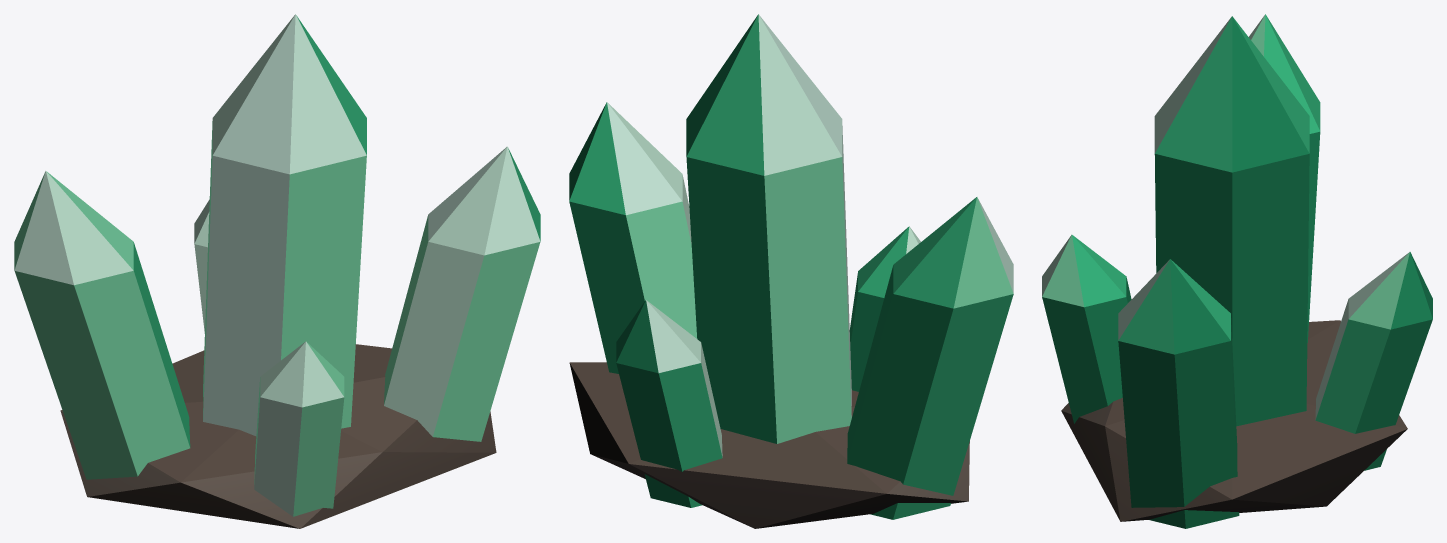
Rendered from crystal_green.glb.
3 views of the same model, side by side, from view 1: azimuth 30°, elevation 25°; view 2: azimuth 150°, elevation 25°; view 3: azimuth 270°, elevation 25° (orthographic).
Visible parts, largest first — view 1: crystal_green; view 2: crystal_green; view 3: crystal_green.
Part boxes in pixels (x1,y1,x2,y2): crystal_green: [14, 14, 540, 528]; crystal_green: [569, 14, 1013, 528]; crystal_green: [1042, 14, 1432, 528].
Size of the model in its own units: 0.7233 by 0.62 by 0.5051.
